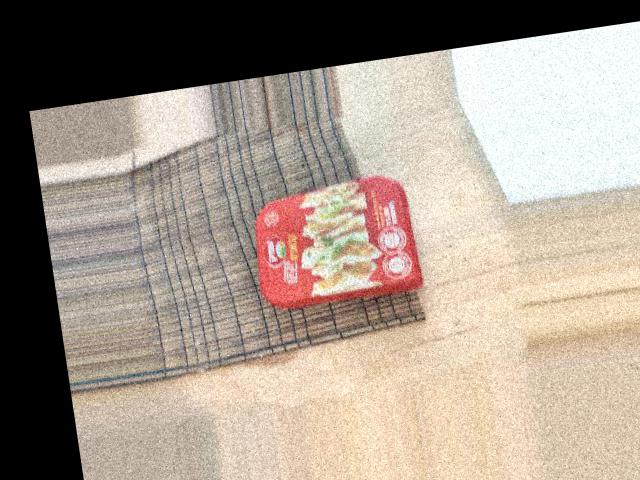cheese: (180, 106, 334, 303)
